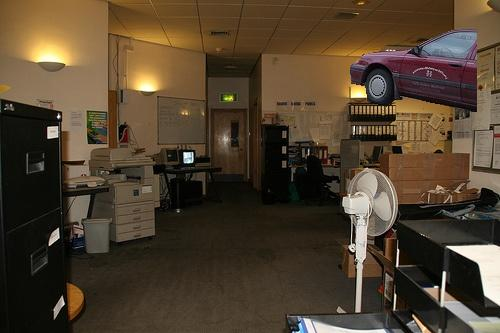tampered: (351, 30, 477, 112)
